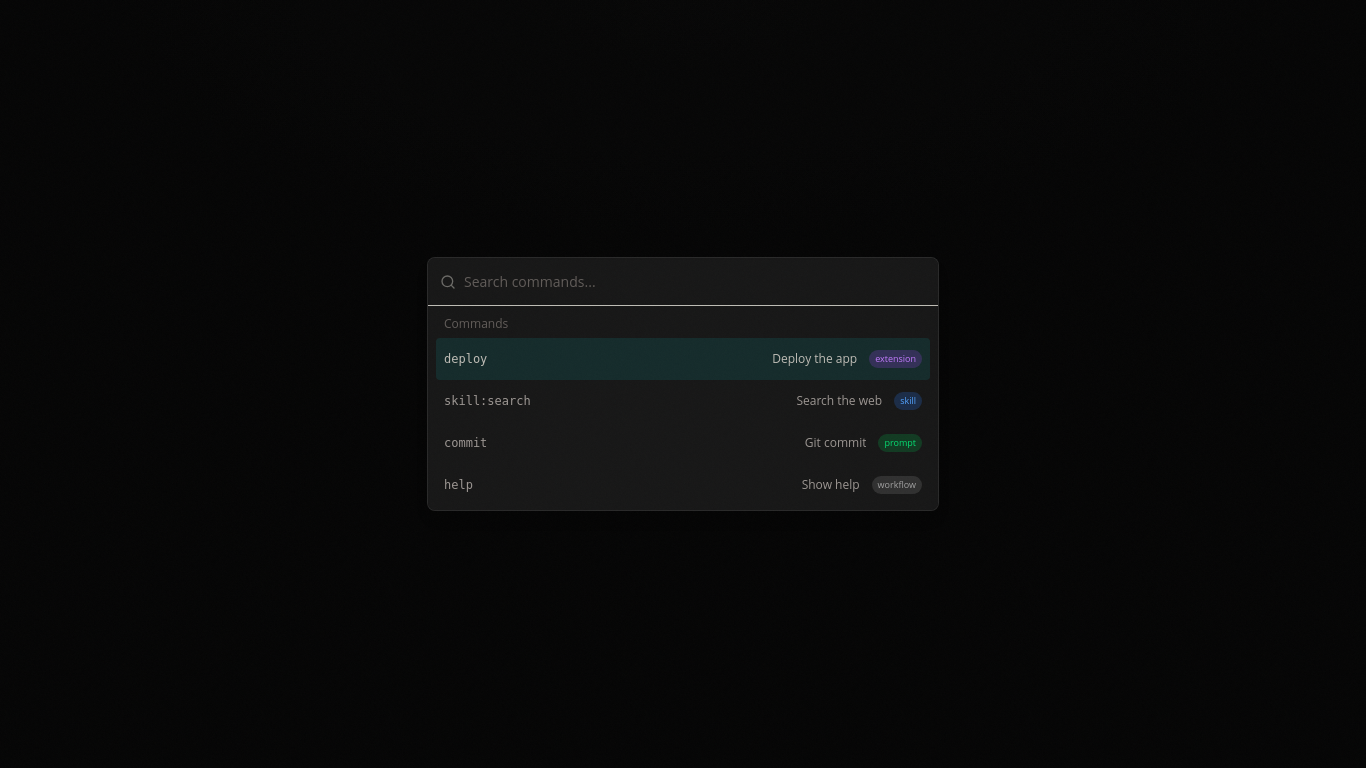
Test: GlobalCommandPalette › filters commands by name when typing in search input
This screenshot has width=1366, height=768.
Type "dep" into the dropdown with placeholder "Search commands..." at (695,282), box [464, 258, 926, 306]
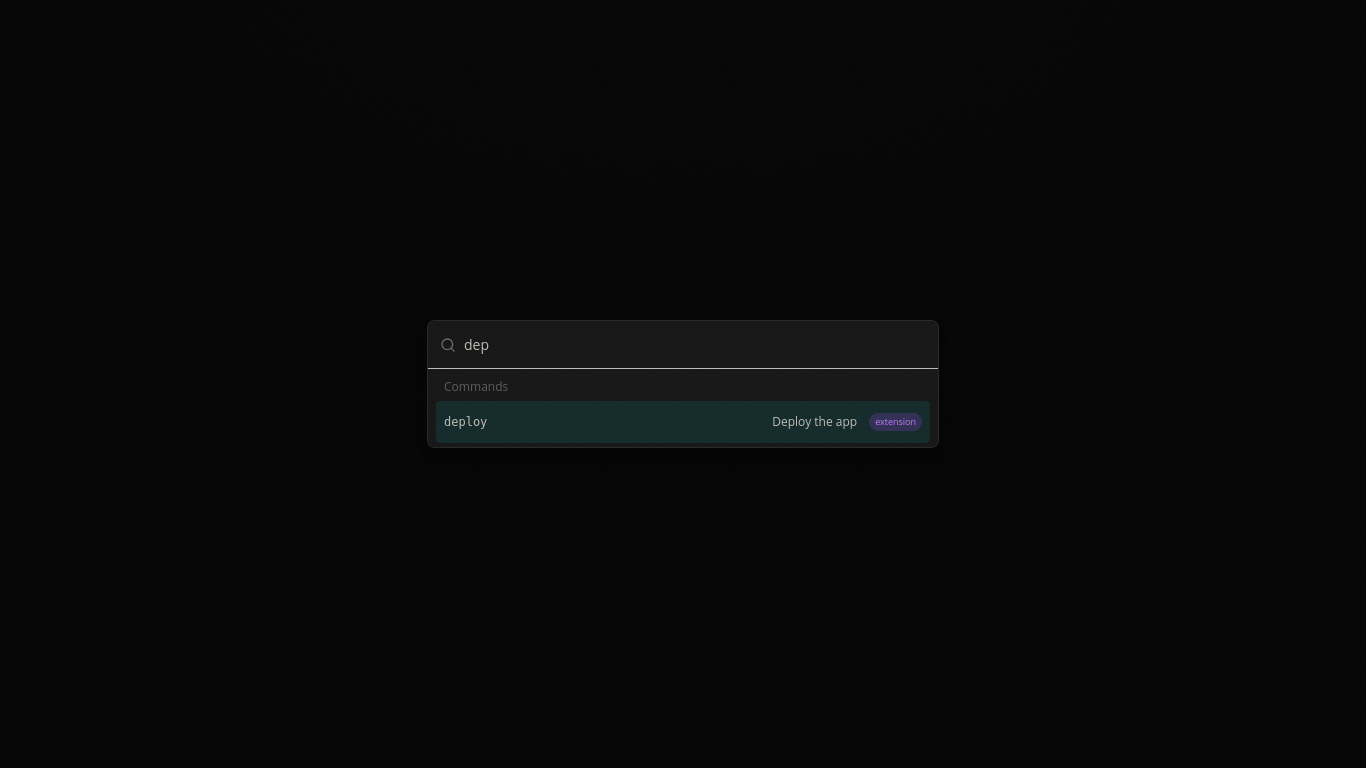
Expected: the text "deploy" is shown, [444, 415, 487, 429]
Expected: the option "commit" is gone
